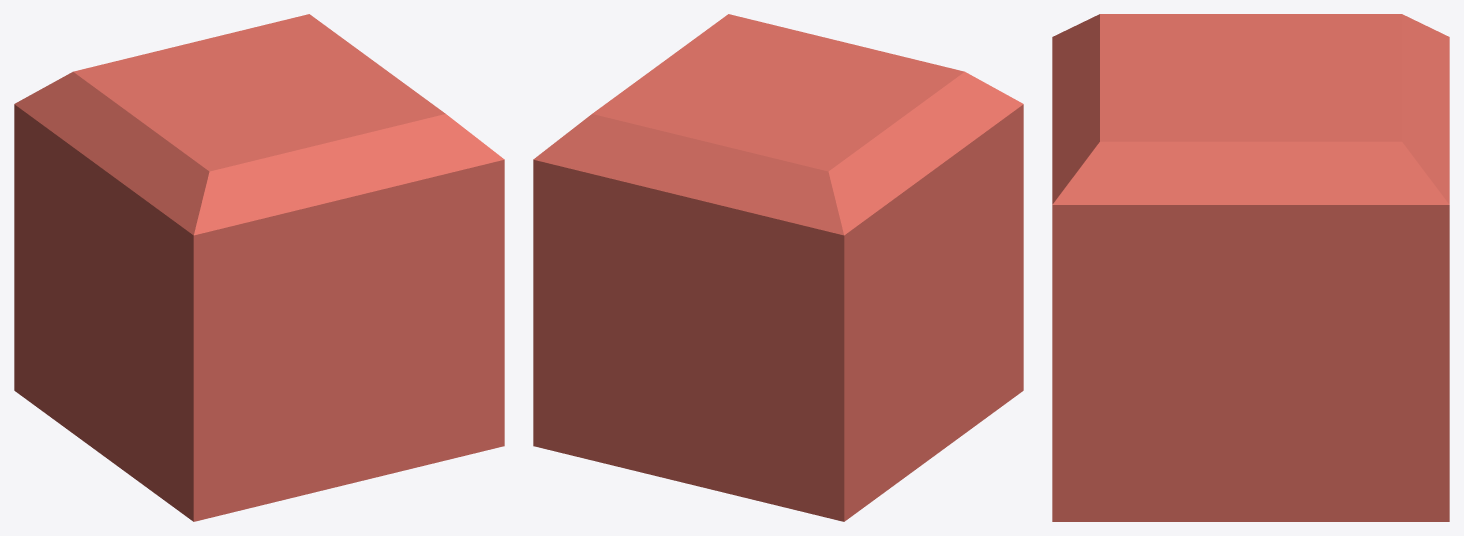
3 views of the same model, side by side, from view 1: azimuth 30°, elevation 25°; view 2: azimuth 150°, elevation 25°; view 3: azimuth 270°, elevation 25° (orthographic). The views are drawn at different scales.
Parts seen in each view (by area): view 1: Cube; view 2: Cube; view 3: Cube.
Part boxes in pixels (bbox=[...]): Cube: bbox=[14, 14, 504, 521]; Cube: bbox=[533, 14, 1023, 521]; Cube: bbox=[1052, 14, 1449, 521].
Size of the model in its own units: 1 by 1 by 1.
